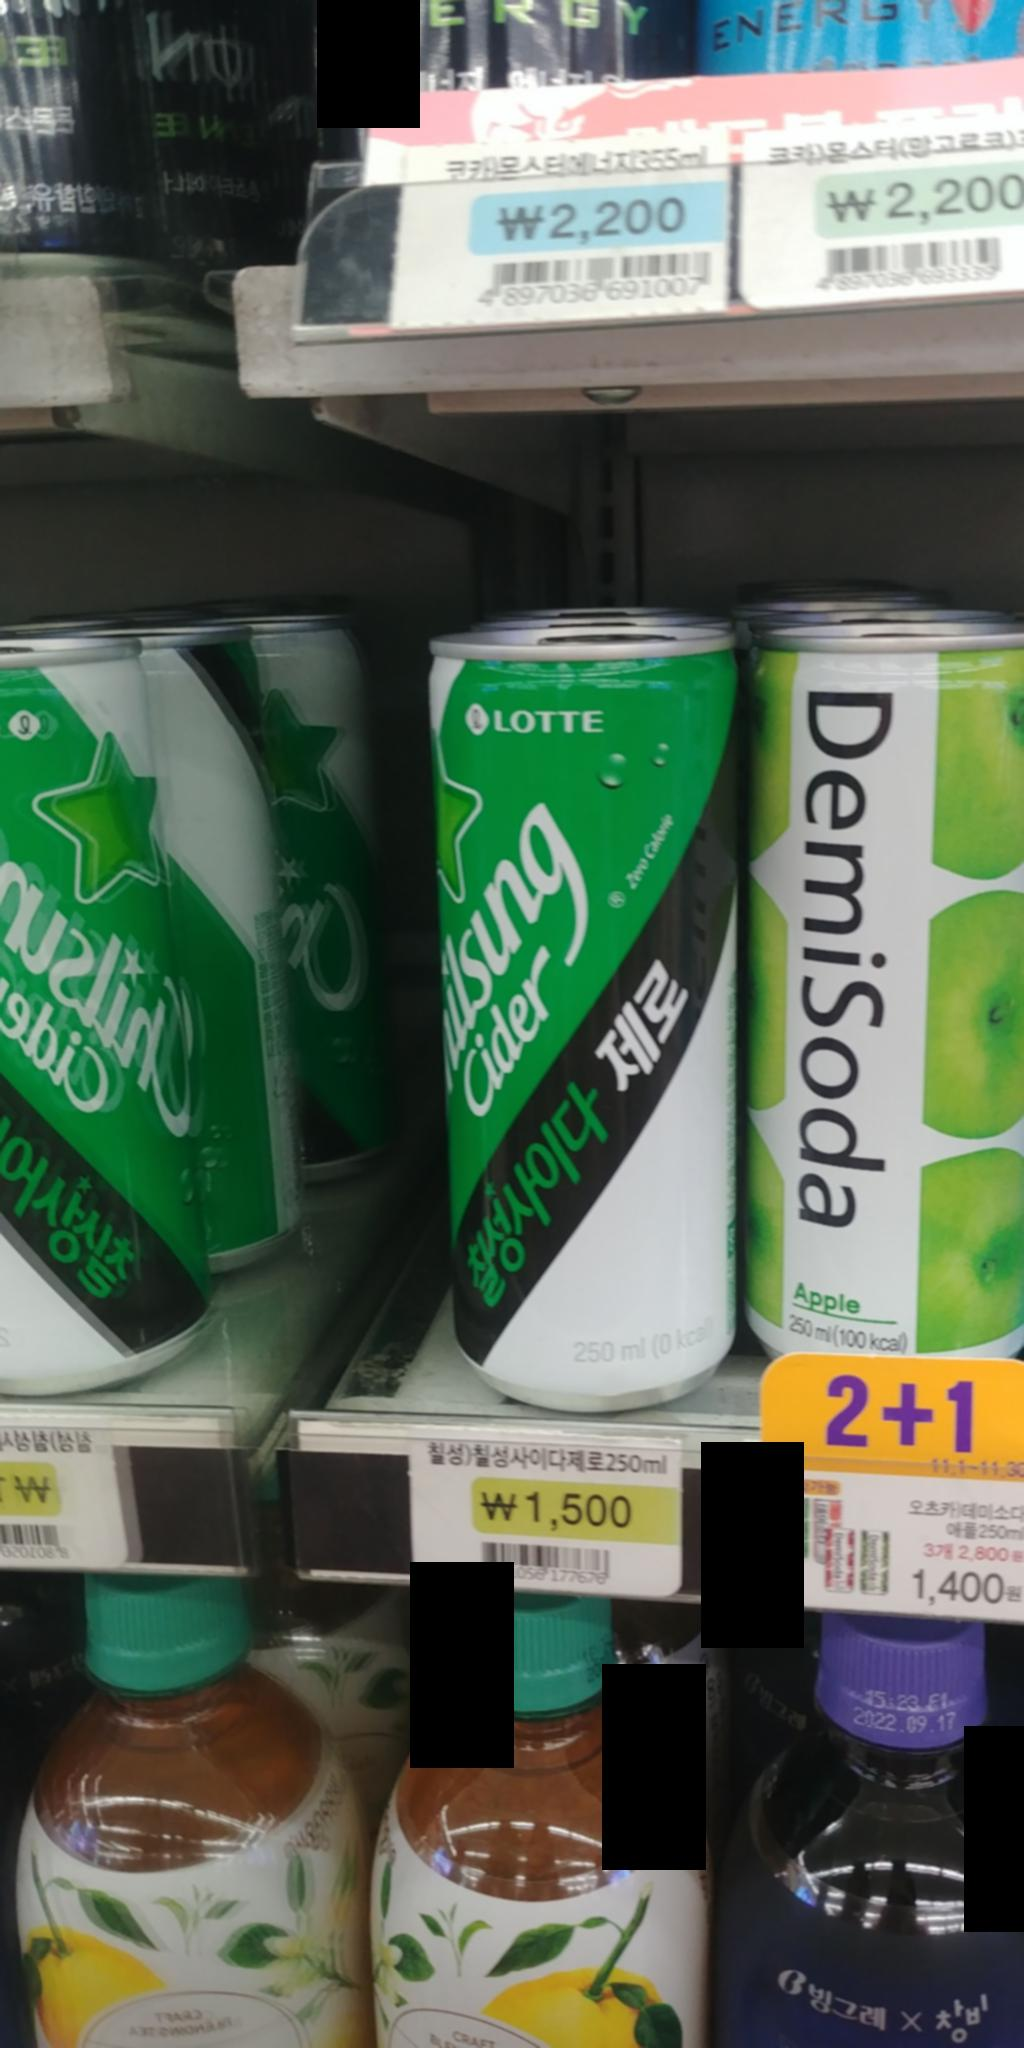chilsungcider_zero: (417, 618, 759, 1412)
